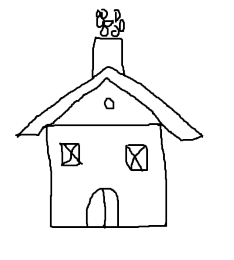closed_window: (116, 133, 152, 177), (58, 137, 84, 171)
door: (81, 186, 125, 232)
roof: (12, 67, 209, 143)
smoking_chimney: (87, 6, 132, 74)
wall: (38, 117, 175, 239)
